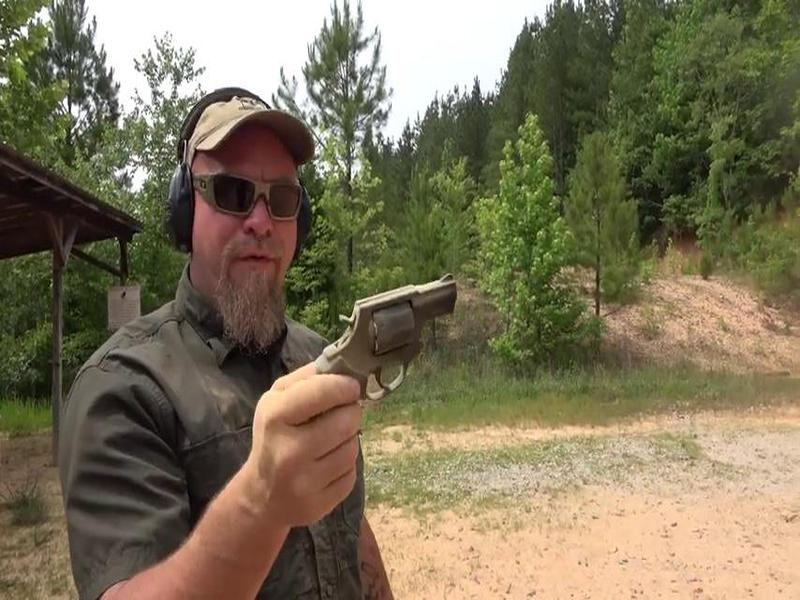Revolver: (299, 265, 465, 420)
